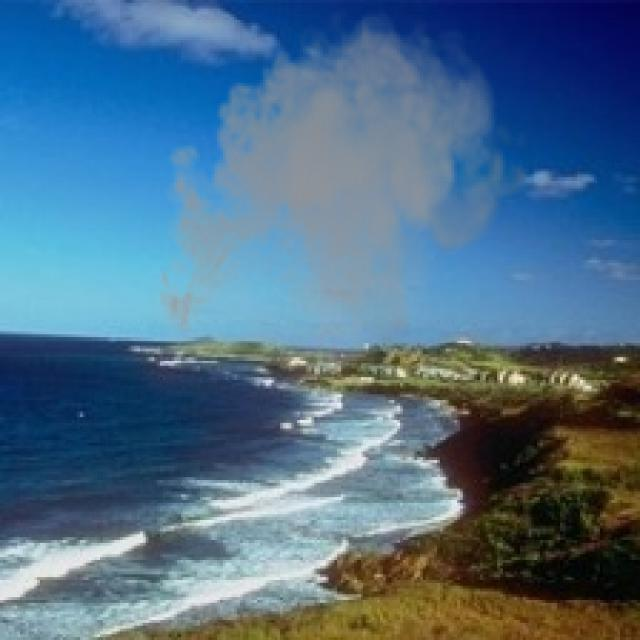Smoke: (146, 0, 532, 400)
